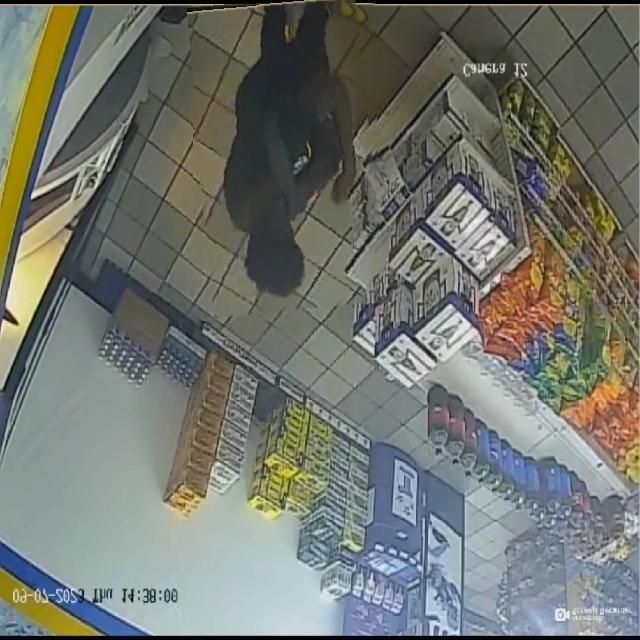Normal: (193, 0, 380, 315)
